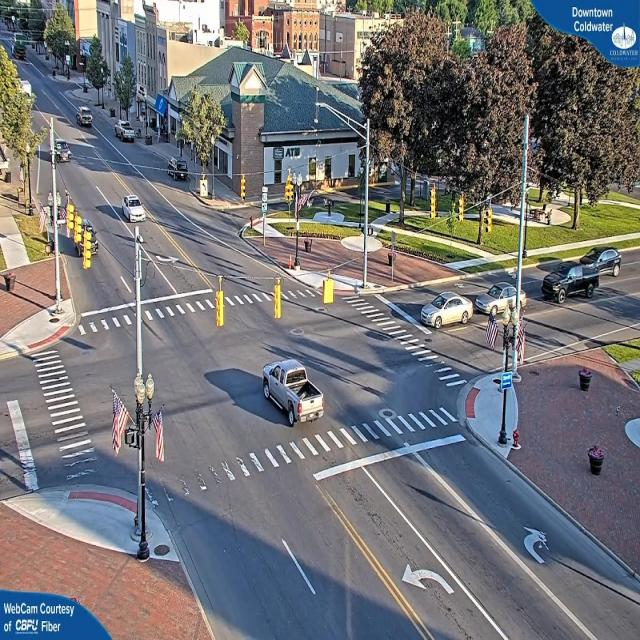car: (259, 360, 323, 430), (476, 277, 525, 318), (552, 264, 600, 300), (422, 296, 471, 329), (584, 247, 622, 275), (121, 194, 146, 222), (586, 443, 606, 475), (164, 158, 189, 180), (116, 123, 136, 143), (80, 106, 94, 132)
